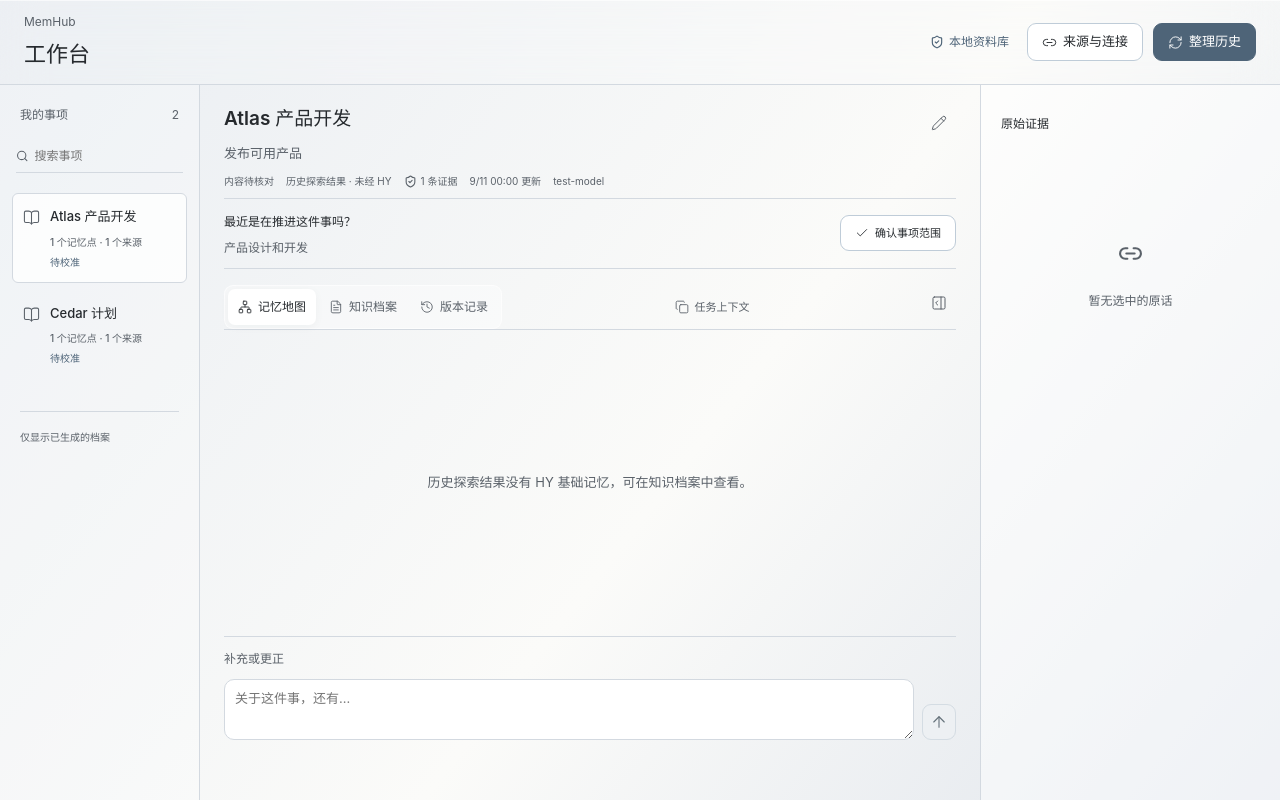
Test case: does not reopen context from a request started before switching matters
The image size is (1280, 800).
Click the button "任务上下文" at (712, 307), box [660,285,764,329]
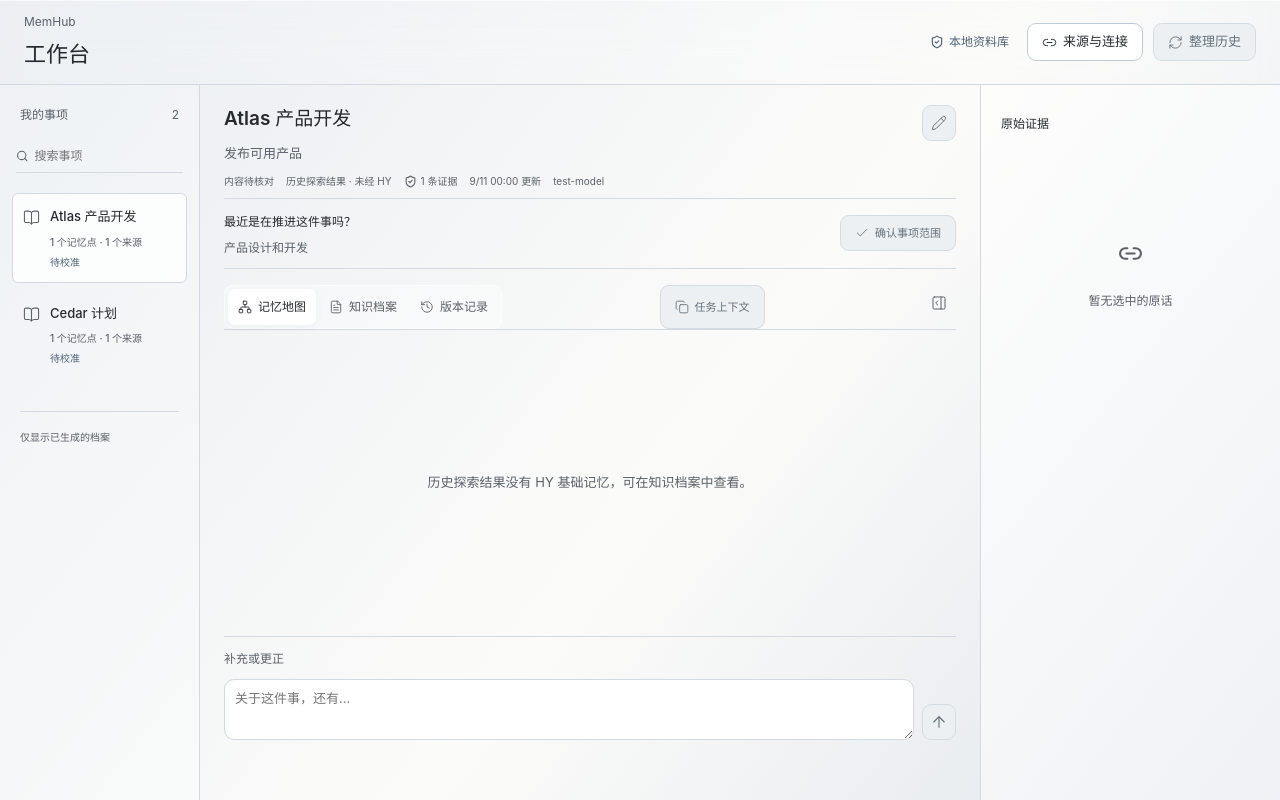
Click the button "Cedar 计划 1 个记忆点 · 1 个来源 待校准" at (100, 335), box [12,290,187,380]
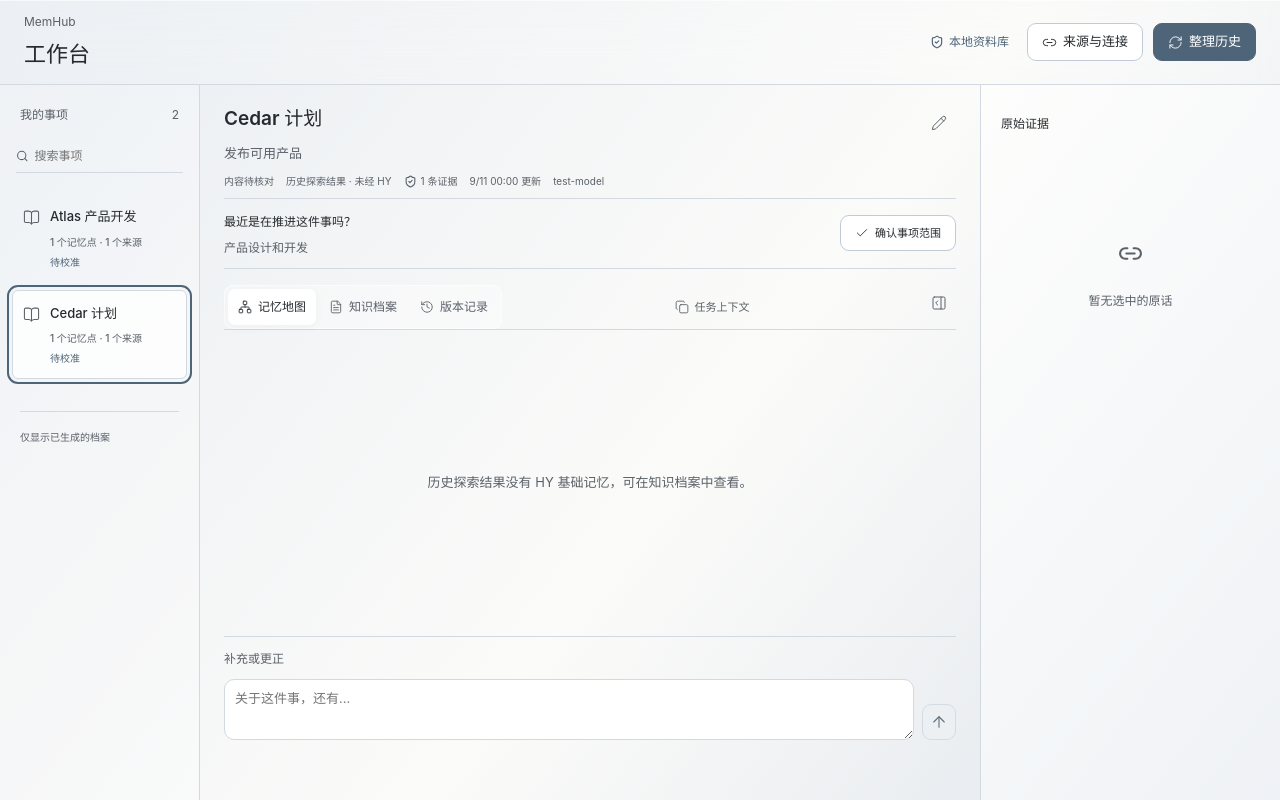
Expected: the heading "Cedar 计划" is shown, [224,105,322,133]
